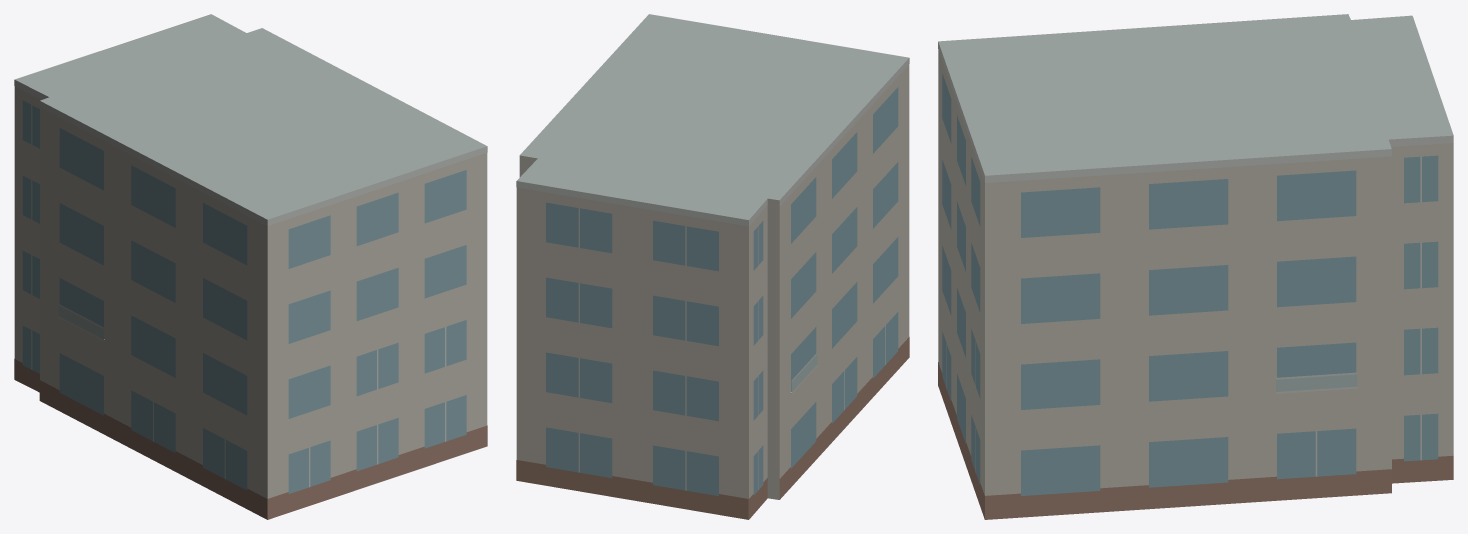
File: survey-upis-32717030.glb
3 views of the same model, side by side, from view 1: azimuth 30°, elevation 25°; view 2: azimuth 150°, elevation 25°; view 3: azimuth 270°, elevation 25° (orthographic). The views are drawn at different scales.
Parts seen in each view (by area): view 1: survey-upis-32717030.tmp; view 2: survey-upis-32717030.tmp; view 3: survey-upis-32717030.tmp.
Boxes of the visible parts, bbox=[...] form: survey-upis-32717030.tmp: bbox=[14, 14, 487, 519]; survey-upis-32717030.tmp: bbox=[516, 14, 909, 519]; survey-upis-32717030.tmp: bbox=[938, 14, 1453, 519].
Bounding box in the file's own units: 11.6 × 11.5 × 15.63.
